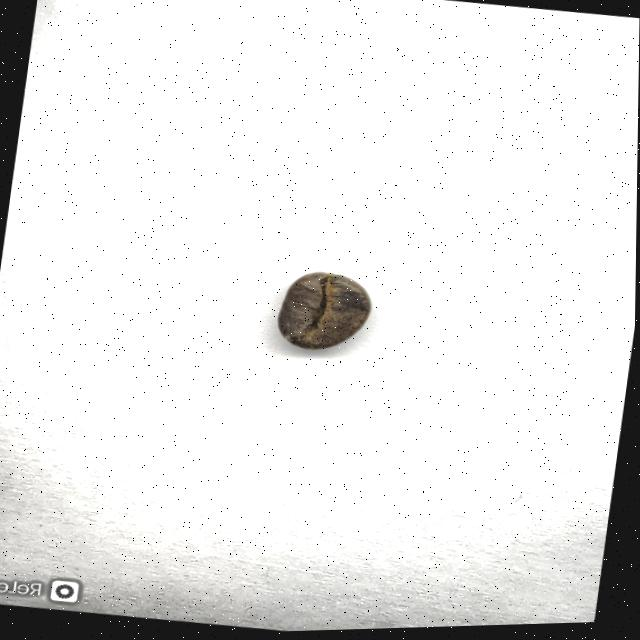Black: (273, 268, 378, 357)
